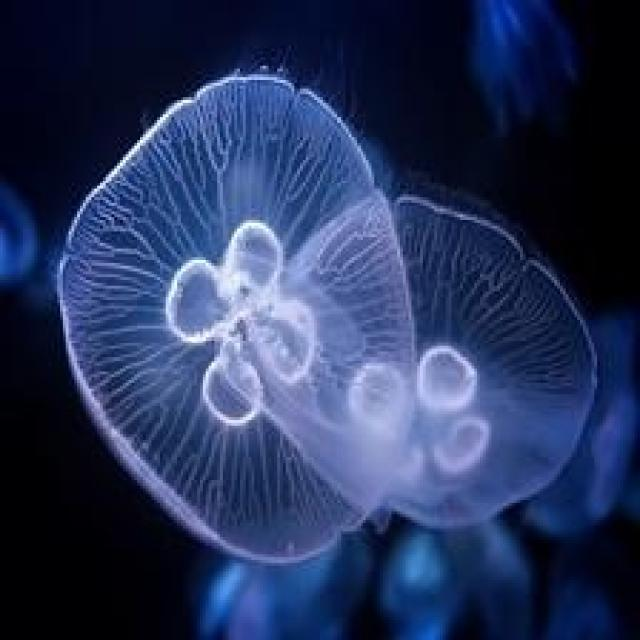Moon-jellyfish: (51, 63, 420, 566), (249, 147, 583, 555)
